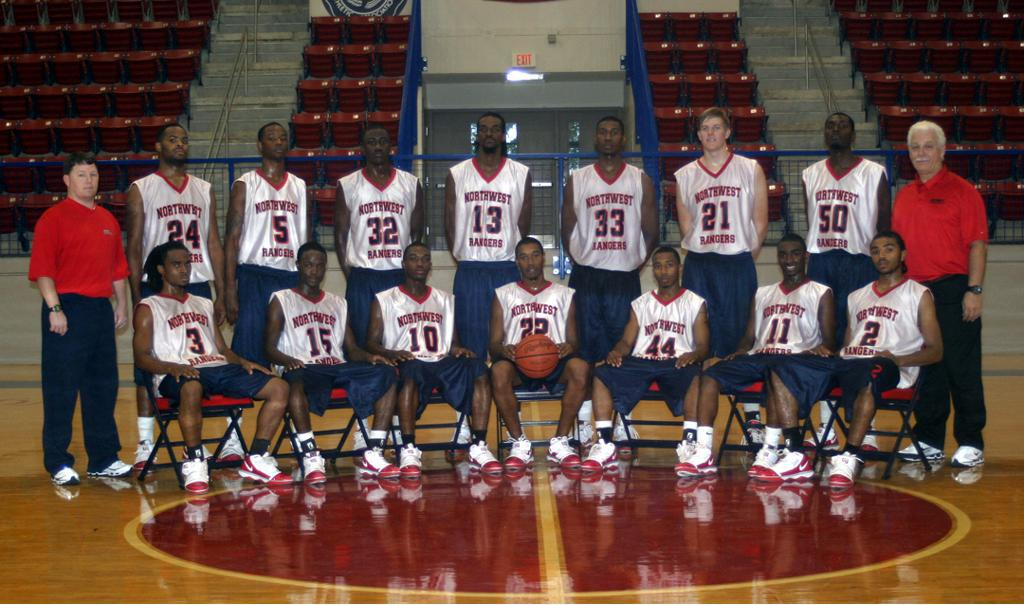face: (910, 131, 940, 174), (516, 245, 545, 280), (871, 239, 900, 274), (166, 249, 192, 287), (699, 117, 726, 152), (478, 117, 504, 153), (826, 116, 853, 149), (364, 130, 390, 164), (74, 164, 99, 198), (406, 249, 432, 281), (778, 243, 804, 275), (264, 127, 289, 160), (301, 252, 325, 286), (598, 122, 622, 155), (165, 129, 189, 161), (654, 255, 678, 287)
